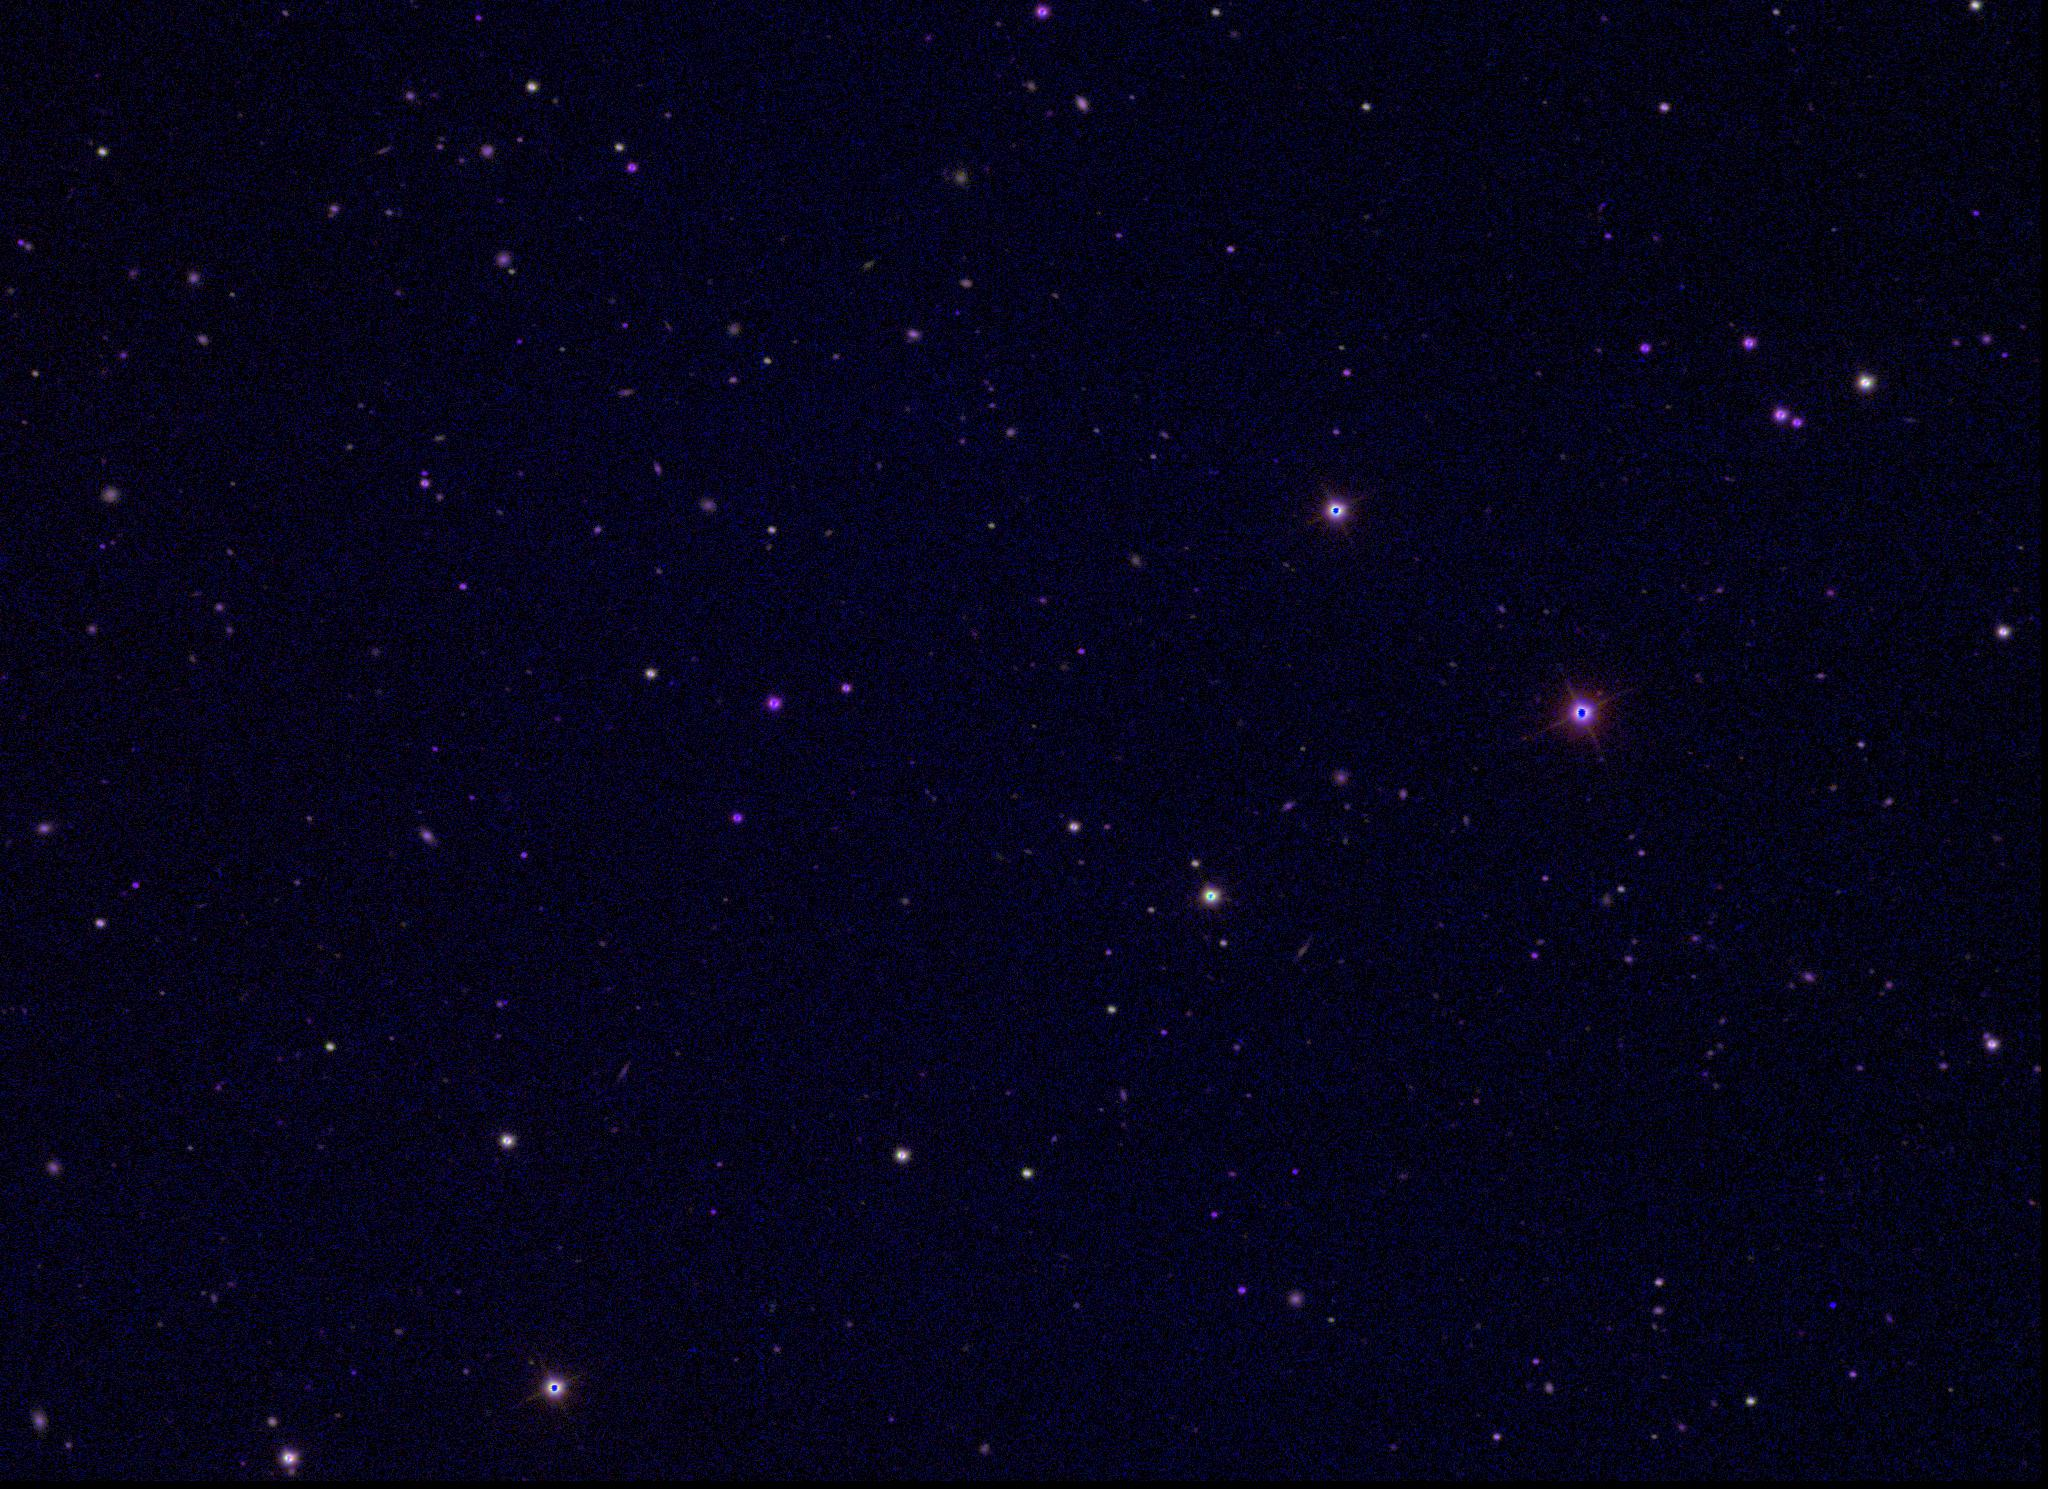L: (1829, 1300, 1841, 1312)
